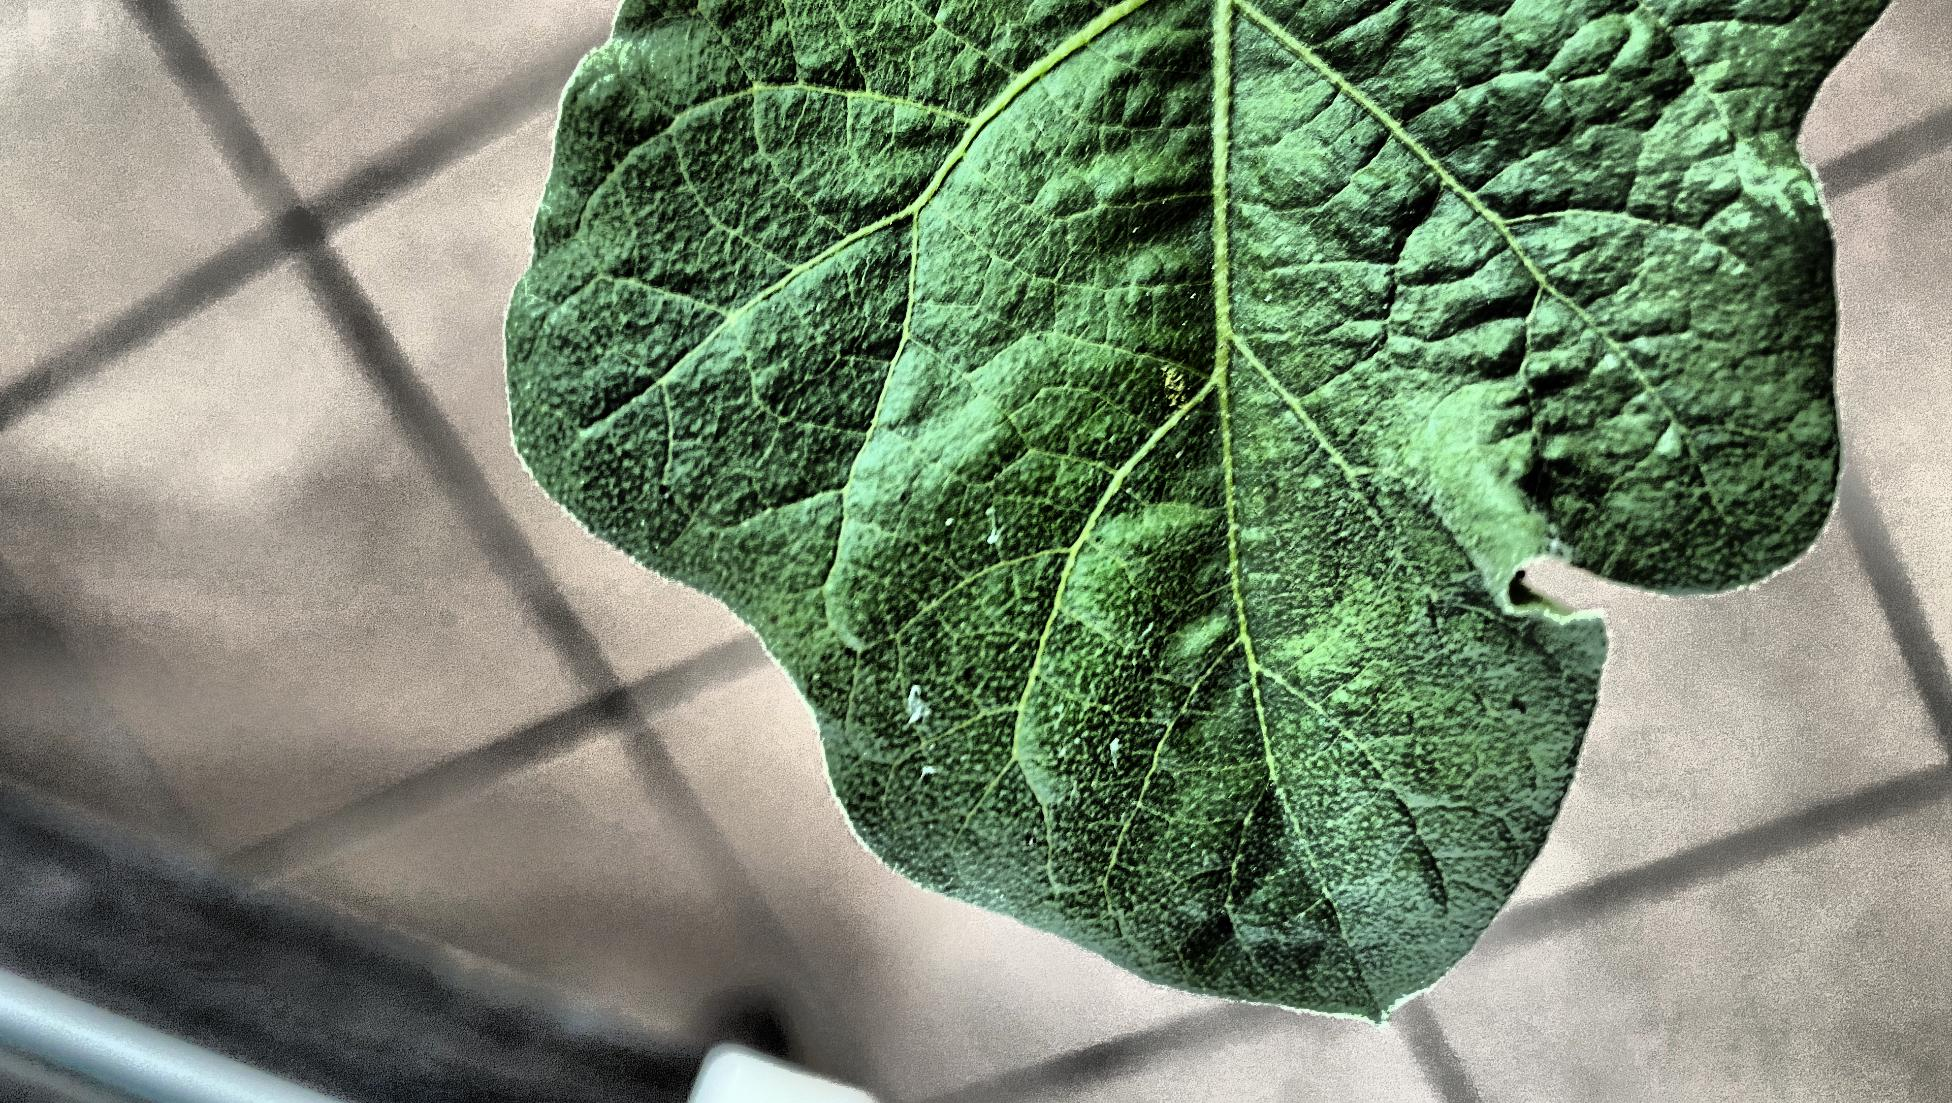HEALTHY: (0, 143, 1439, 1103)
